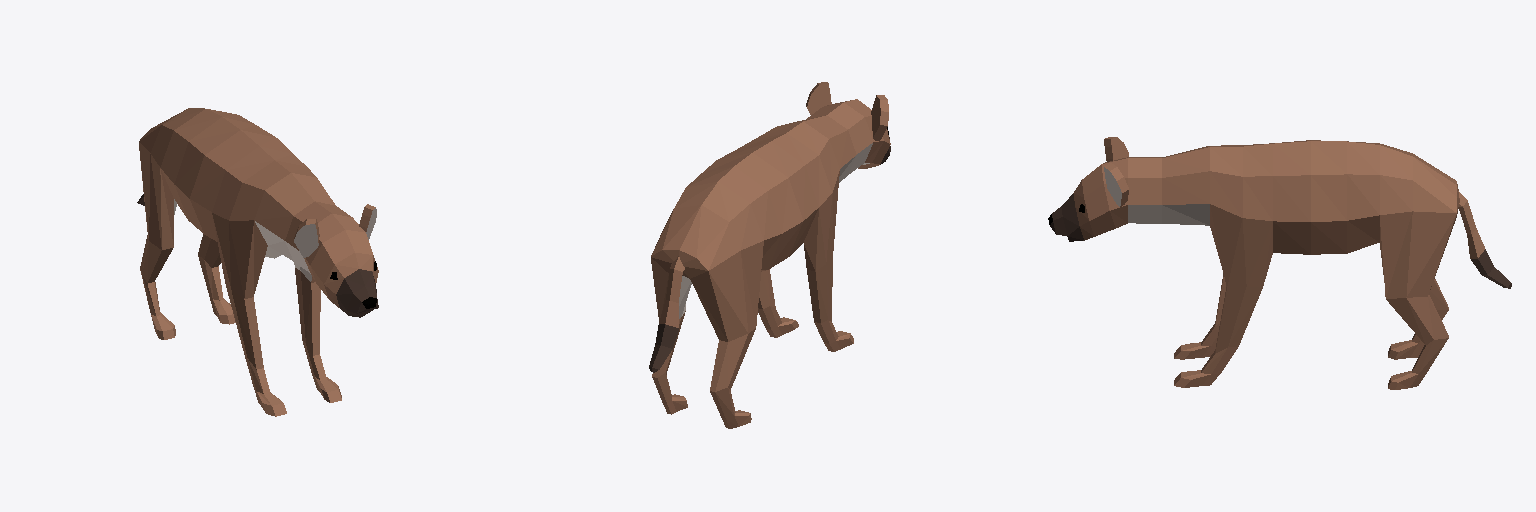
The picture shows the model from 3 angles: view 1: azimuth 30°, elevation 25°; view 2: azimuth 150°, elevation 25°; view 3: azimuth 270°, elevation 25°; orthographic projection.
Visible parts, largest first — view 1: Geo_Hyena; view 2: Geo_Hyena; view 3: Geo_Hyena.
Part boxes in pixels (left/top/right/bottom): Geo_Hyena: left=137, top=108, right=378, bottom=416; Geo_Hyena: left=649, top=82, right=890, bottom=428; Geo_Hyena: left=1048, top=137, right=1511, bottom=389.
Bounding box in the file's own units: 44.56 × 95.85 × 175.
Materials: 1 (1 with a texture image).